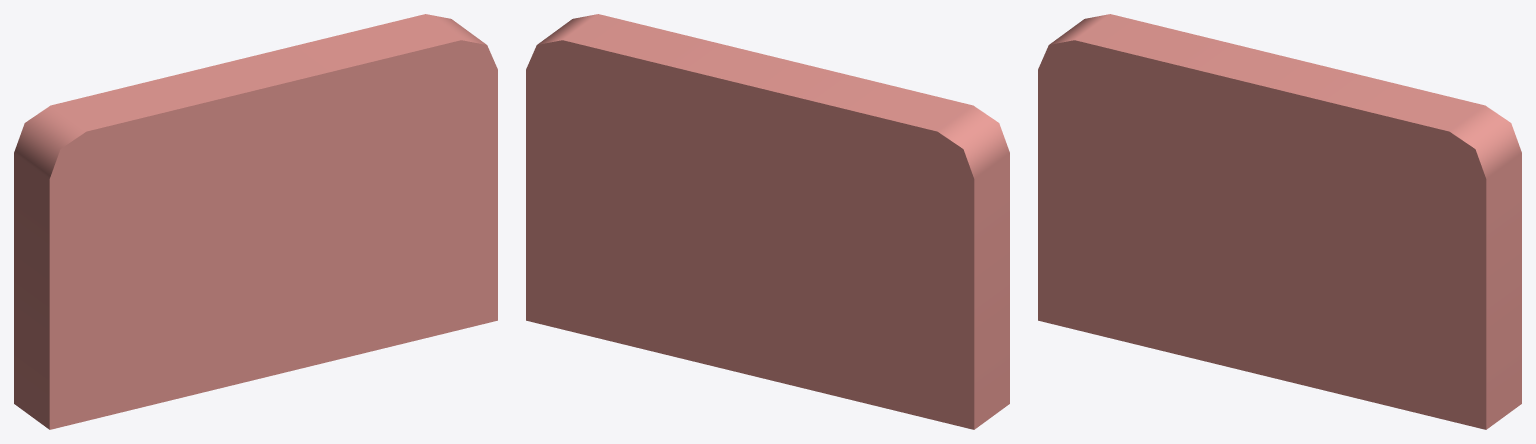
File: SP_House13_Cylinder01.fbx
3 renders of one model, left to right at view 1: azimuth 30°, elevation 25°; view 2: azimuth 150°, elevation 25°; view 3: azimuth 330°, elevation 25°, orthographic.
Parts seen in each view (by area): view 1: SP_House13_Cylinder01; view 2: SP_House13_Cylinder01; view 3: SP_House13_Cylinder01.
Part boxes in pixels (box(x1,y1,x2,y2)): SP_House13_Cylinder01: box(14, 14, 497, 429); SP_House13_Cylinder01: box(526, 14, 1009, 429); SP_House13_Cylinder01: box(1038, 14, 1521, 429).
Size of the model in its own units: 2.61 by 1.61 by 0.3599.
